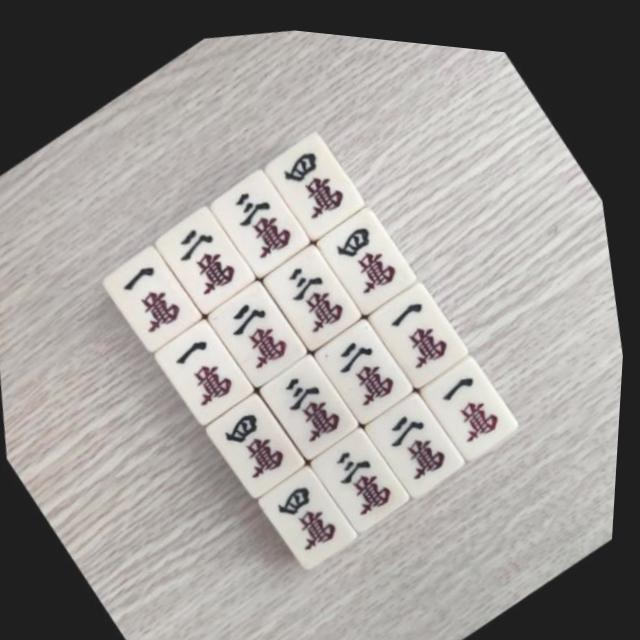sc1: (96, 239, 205, 355), (152, 313, 257, 425), (366, 270, 470, 381), (423, 346, 524, 452)
sc2: (362, 377, 471, 492), (151, 198, 258, 313), (314, 308, 418, 420), (207, 274, 311, 384)
sc3: (204, 157, 313, 275), (258, 233, 367, 349), (310, 415, 418, 531), (257, 343, 365, 458)
sc4: (255, 121, 364, 235), (312, 195, 419, 311), (260, 454, 366, 569), (205, 386, 308, 494)
